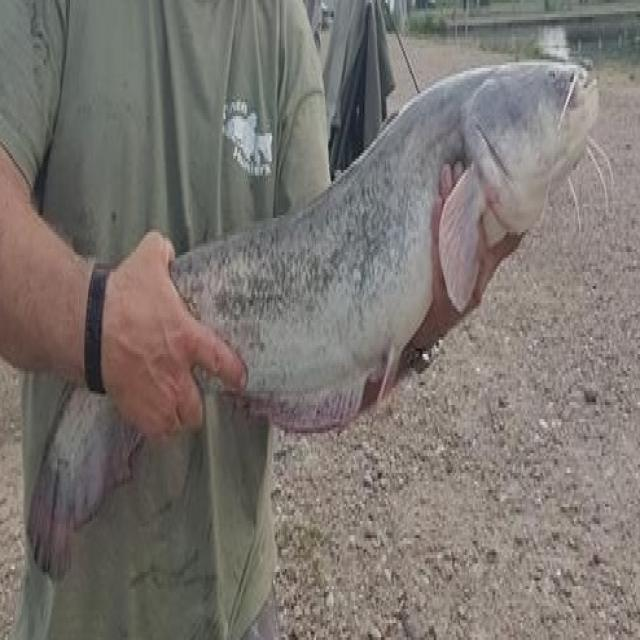Catfish: (39, 46, 614, 568)
